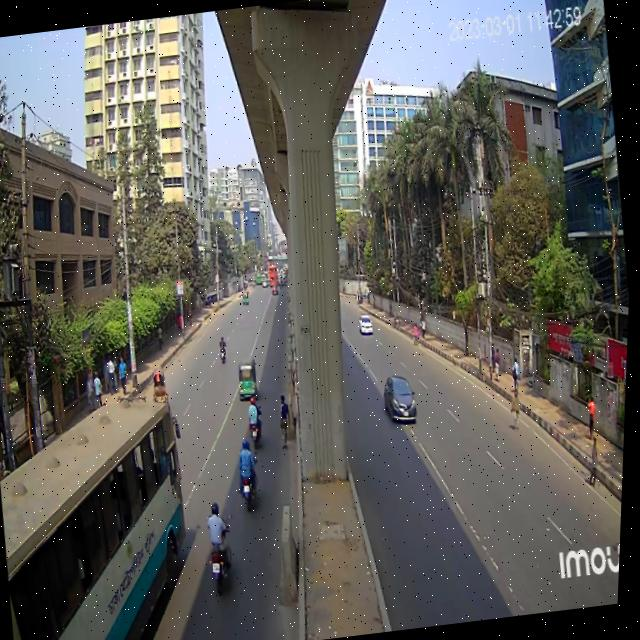cng: (235, 353, 264, 409)
